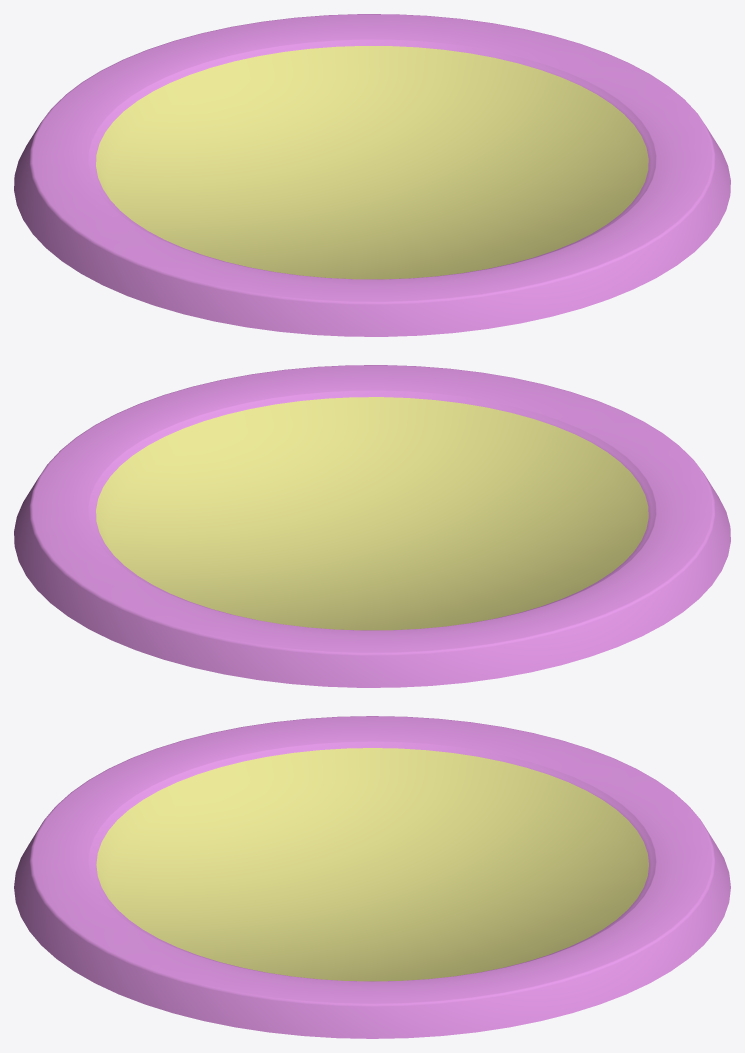
Rendered from Teleporter.fbx.
3 views of the same model, one above another, from view 1: azimuth 30°, elevation 25°; view 2: azimuth 150°, elevation 25°; view 3: azimuth 270°, elevation 25° (orthographic).
Parts seen in each view (by area): view 1: Teleporter; view 2: Teleporter; view 3: Teleporter.
Boxes of the visible parts, box(x1,y1,x2,y2) form: Teleporter: box(14, 14, 730, 336); Teleporter: box(14, 365, 730, 687); Teleporter: box(14, 716, 730, 1038).
Bounding box in the file's own units: 1.13 × 0.0476 × 1.13.
